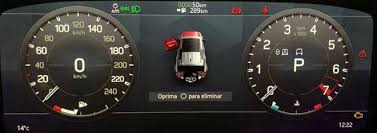Digital_Meter: (155, 1, 233, 14)
